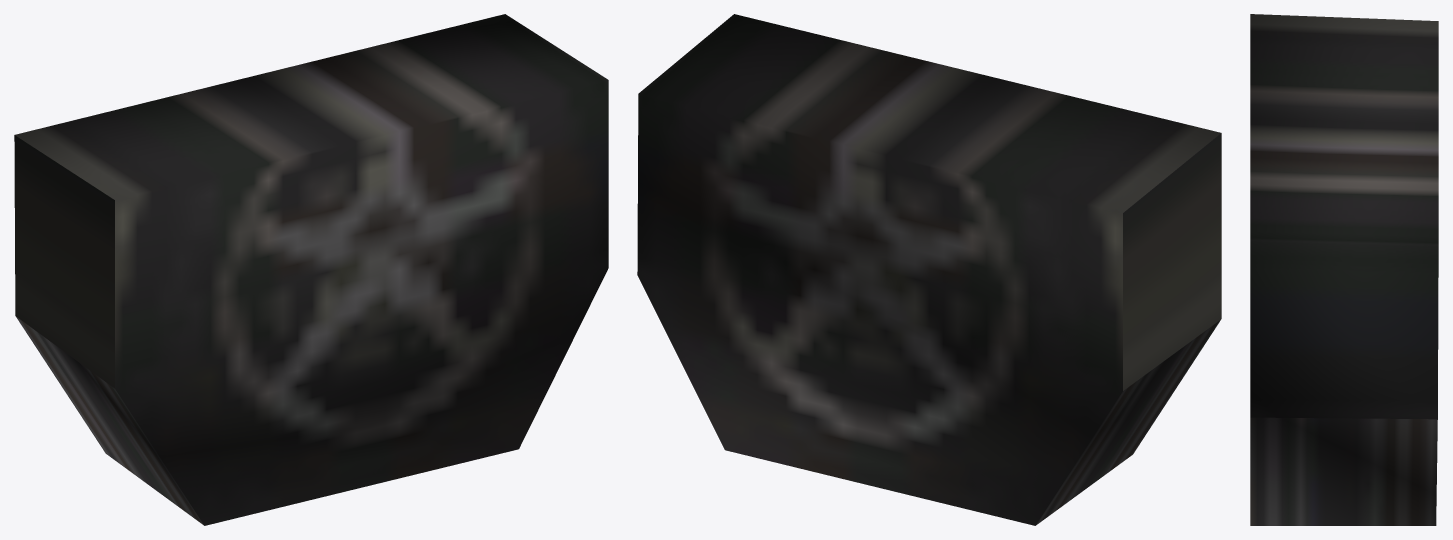
The model's file is Shared - Ground Vehicles - CV Generic x 04 - CVGeneric_x04.glb.
3 renders of one model, left to right at view 1: azimuth 30°, elevation 25°; view 2: azimuth 150°, elevation 25°; view 3: azimuth 270°, elevation 25°, orthographic. The views are drawn at different scales.
Visible parts, largest first — view 1: CVGENERIC_X04; view 2: CVGENERIC_X04; view 3: CVGENERIC_X04.
Boxes of the visible parts, x1,y1,x2,y2 form: CVGENERIC_X04: [14, 14, 608, 525]; CVGENERIC_X04: [637, 14, 1221, 525]; CVGENERIC_X04: [1250, 14, 1438, 525].
Size of the model in its own units: 3.62 by 2.44 by 1.27.
Materials: 1 (1 with a texture image).
